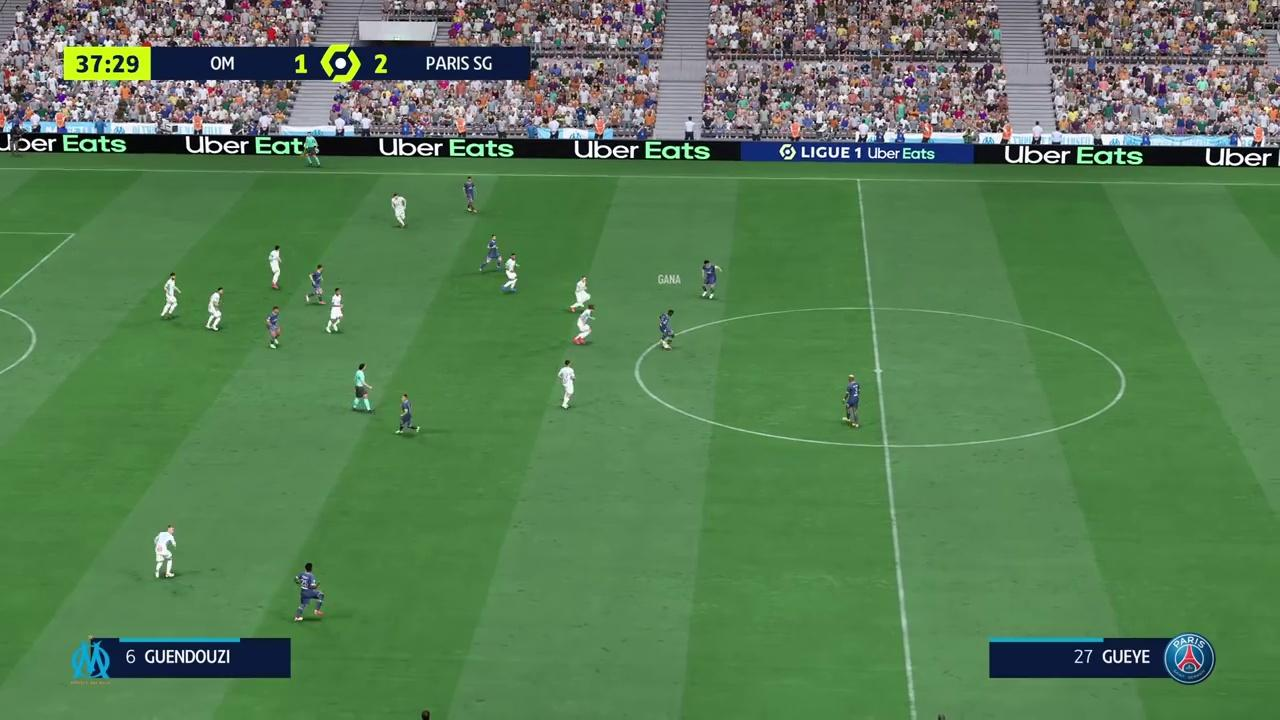scoreboard: (158, 50, 532, 81)
timestamp: (64, 47, 152, 80)
